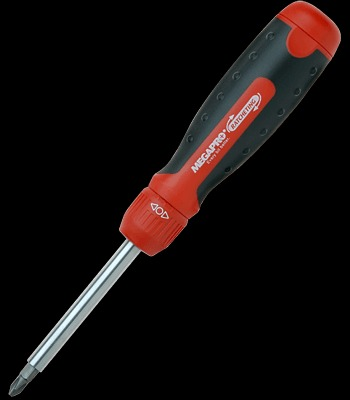screwdriver: (3, 0, 337, 393)
